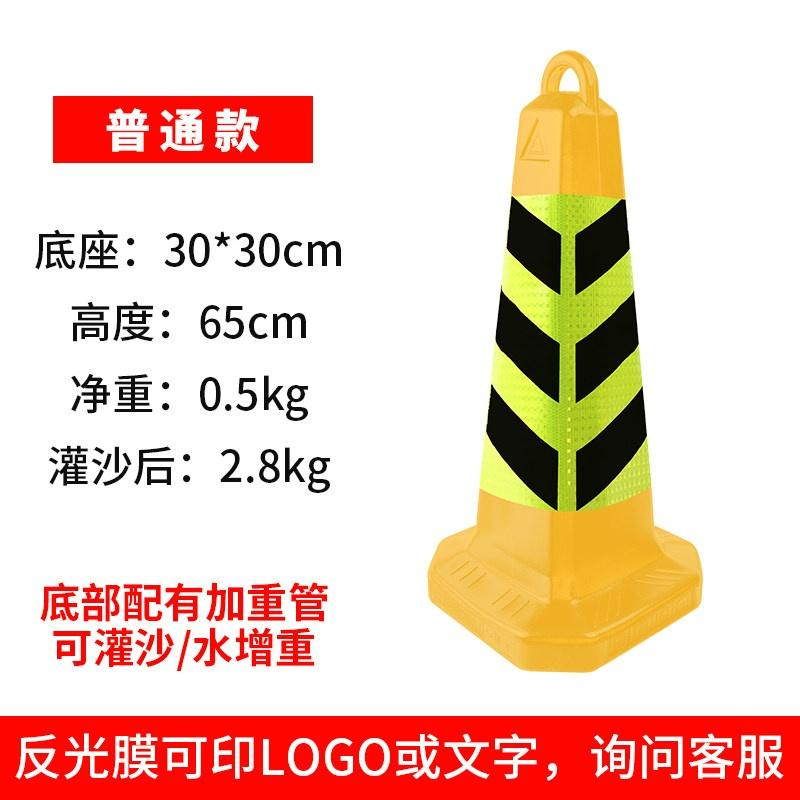cone_barrel: (425, 50, 703, 673)
